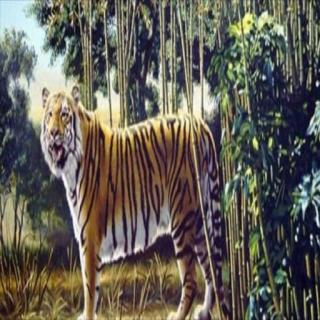Tiger: (35, 80, 228, 320)
